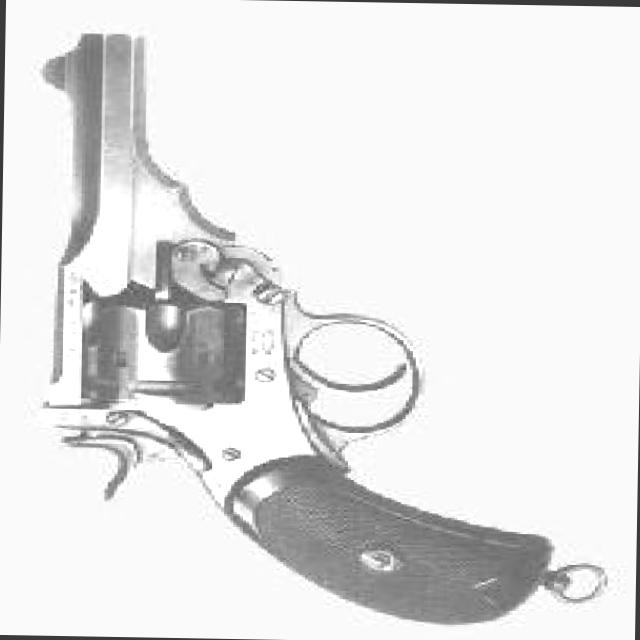handgun: (24, 31, 554, 626)
